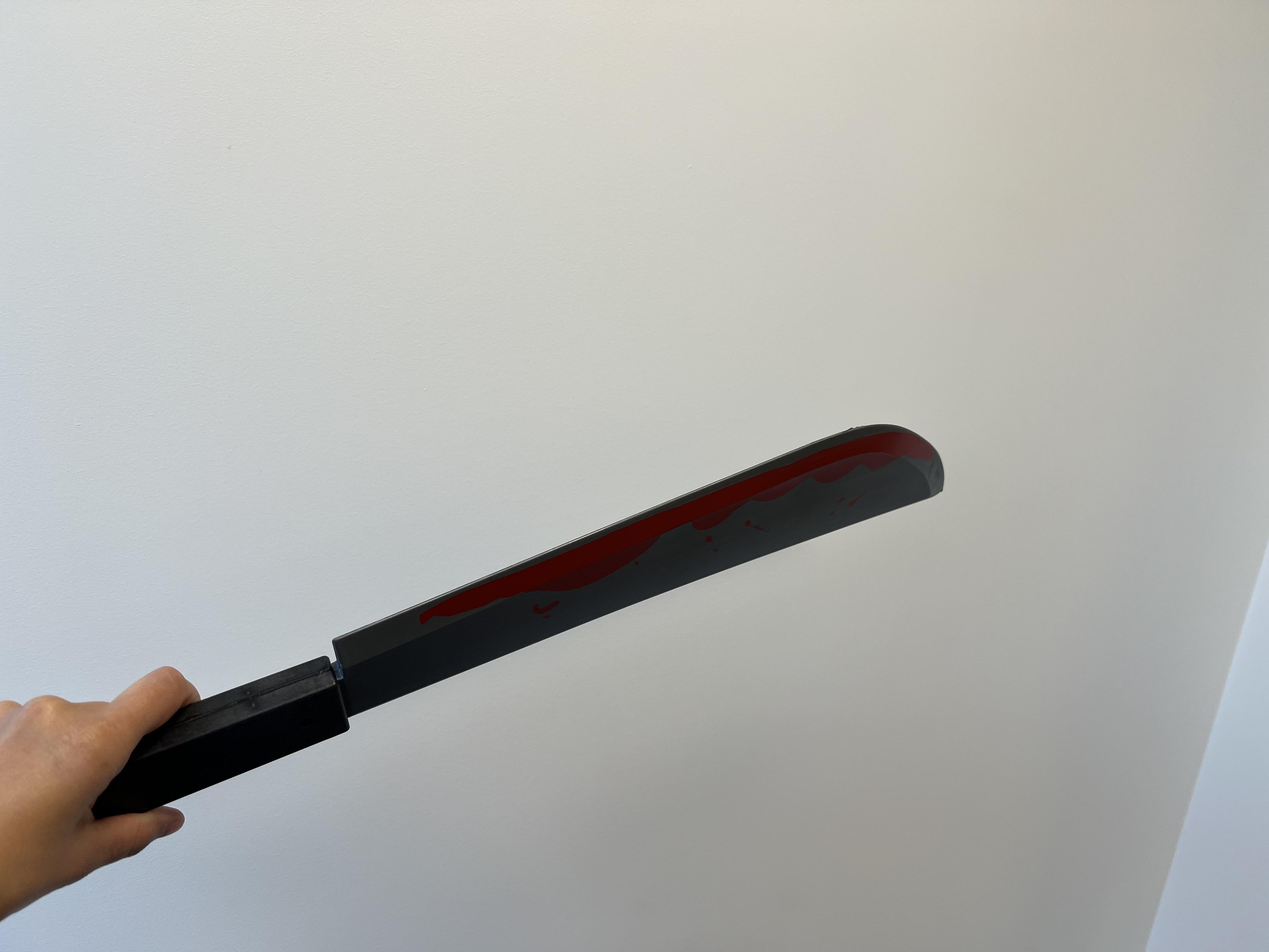Knife: (147, 425, 946, 813), (0, 667, 198, 918), (0, 671, 198, 900)
